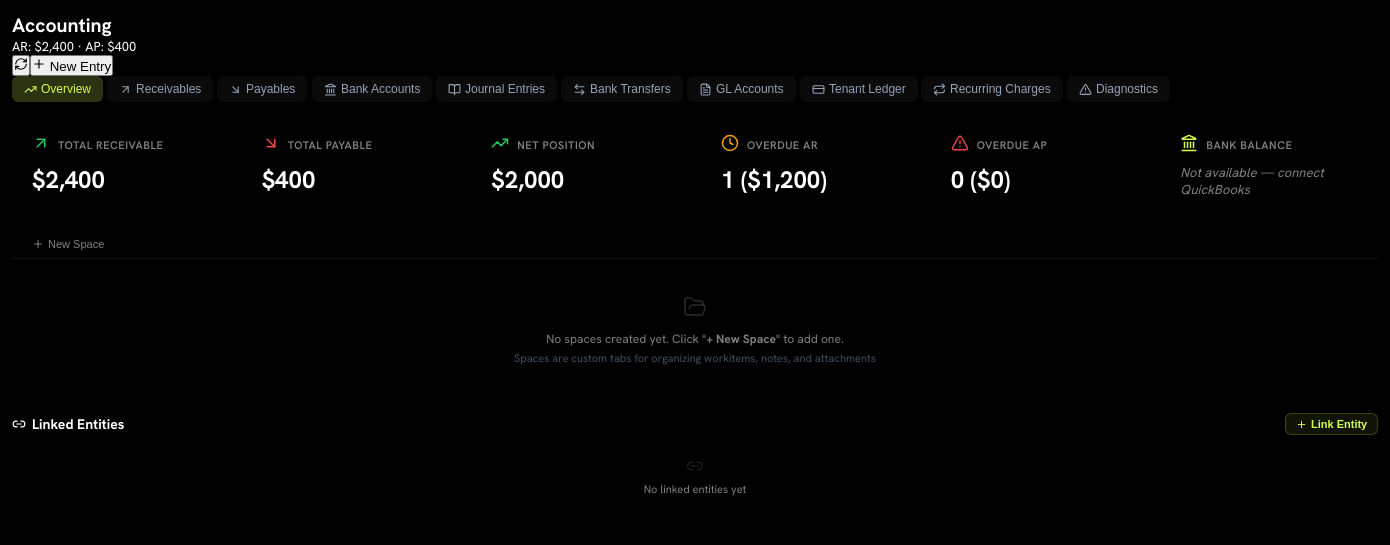
AccountingModule · mocked real /invoices rows render on the derived tabs › Tenant Ledger groups real receivables per tenant with a running balance
The image size is (1390, 545).
Click the button "Tenant Ledger". click: (858, 89)
box: [800,76,917,102]
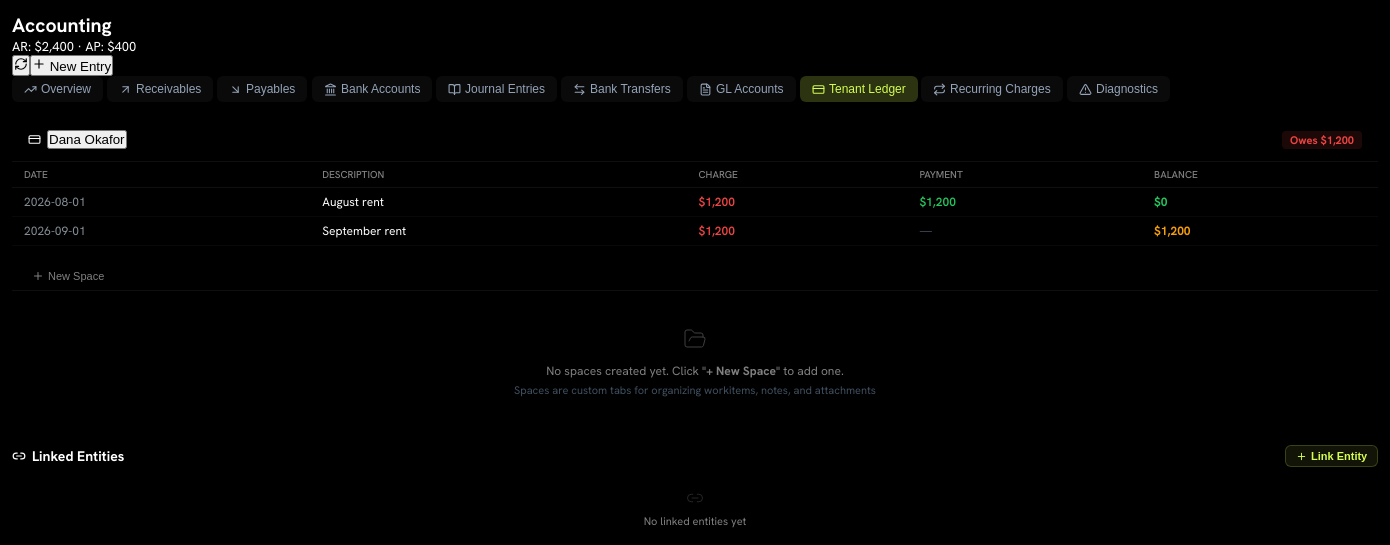
Check: the button "Dana Okafor" is shown, box [47,130,127,149]
Check: the text "Owes $1,200" is shown, box [1282,130,1362,148]
Check: the text "August rent" is shown, box [310,188,687,216]
